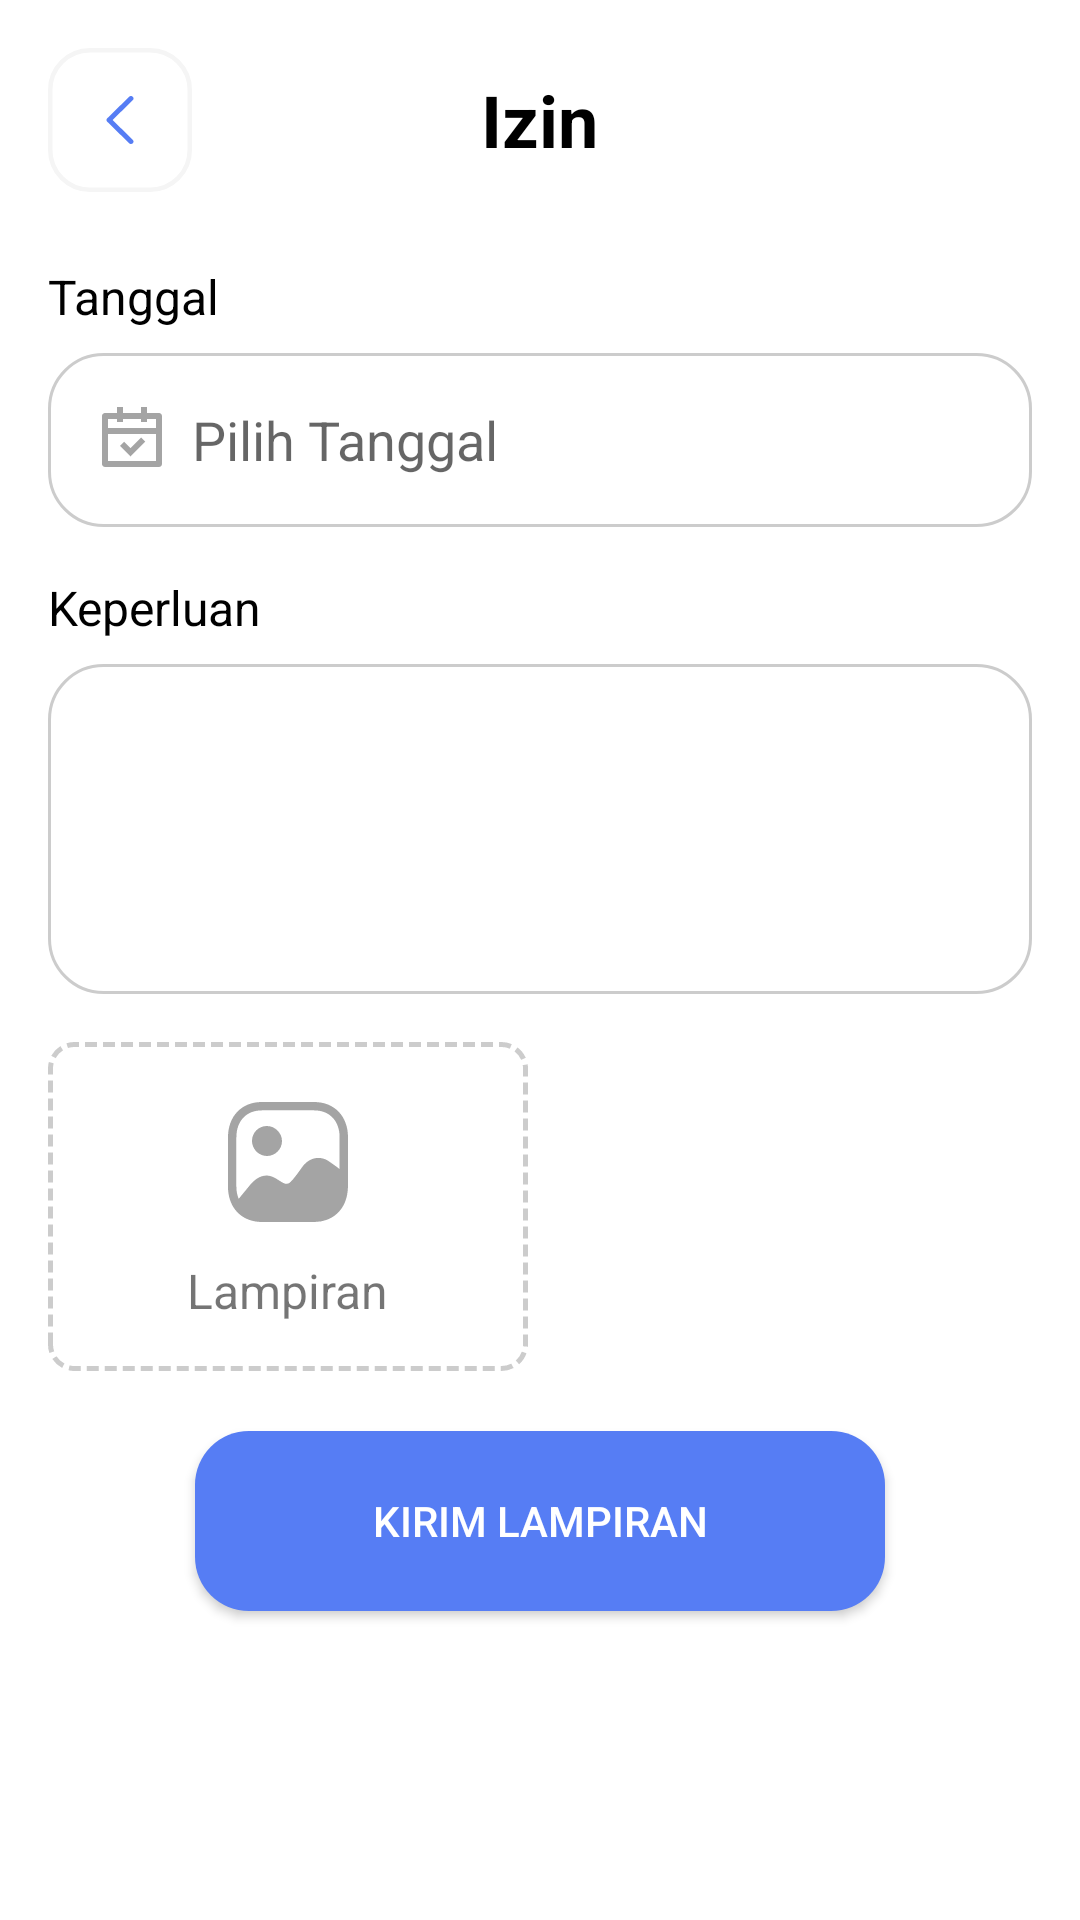

Icons on this 1080px×1920px Android screen, each with its box as bbox=(x1, y1, x2, y2):
arrow back: bbox=(106, 96, 134, 144)
